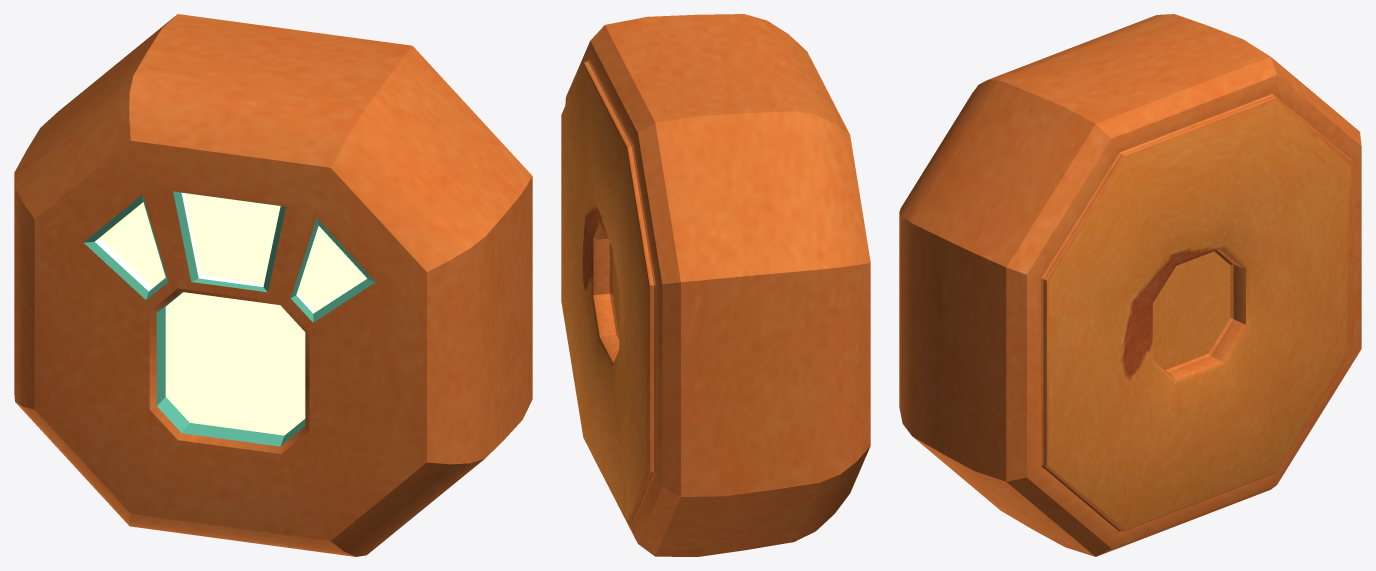
Rendered from PataAAct.fbx.
3 views of the same model, side by side, from view 1: azimuth 30°, elevation 25°; view 2: azimuth 150°, elevation 25°; view 3: azimuth 270°, elevation 25° (orthographic). The views are drawn at different scales.
Parts seen in each view (by area): view 1: PatasA; view 2: PatasA; view 3: PatasA.
Boxes of the visible parts, x1,y1,x2,y2 form: PatasA: (14,14,532,556); PatasA: (561,14,870,556); PatasA: (899,14,1361,556).
Bounding box in the file's own units: 5.62 × 6.1 × 5.81.
